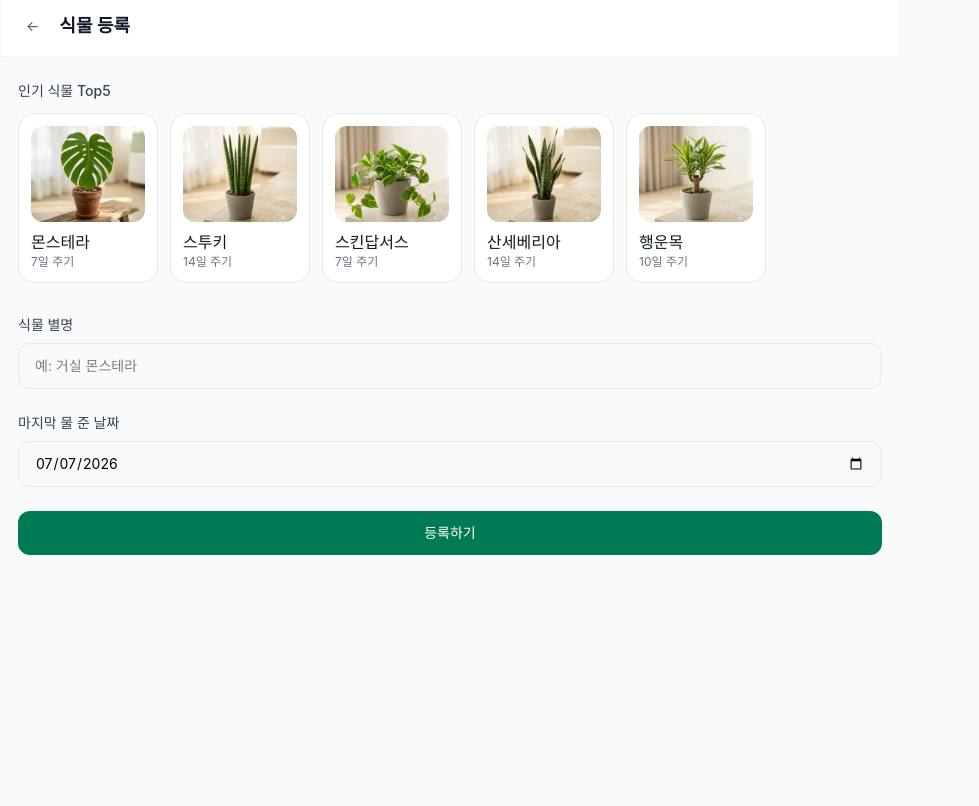
Scenario: AddPlantPage › saves plant to localStorage and navigates home
Click the button "몬스테라 7일 주기" at (88, 198), box [18, 113, 158, 283]
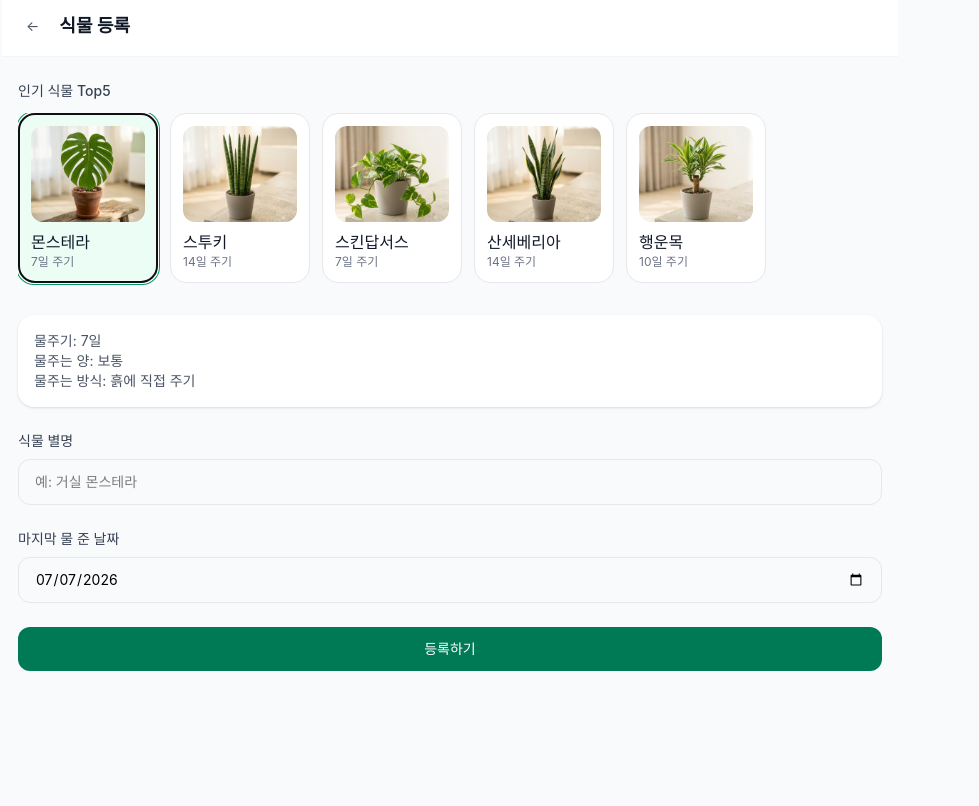
Type "거실 몬스테라" into the field labelled "식물 별명" at (450, 482), box [18, 459, 882, 505]
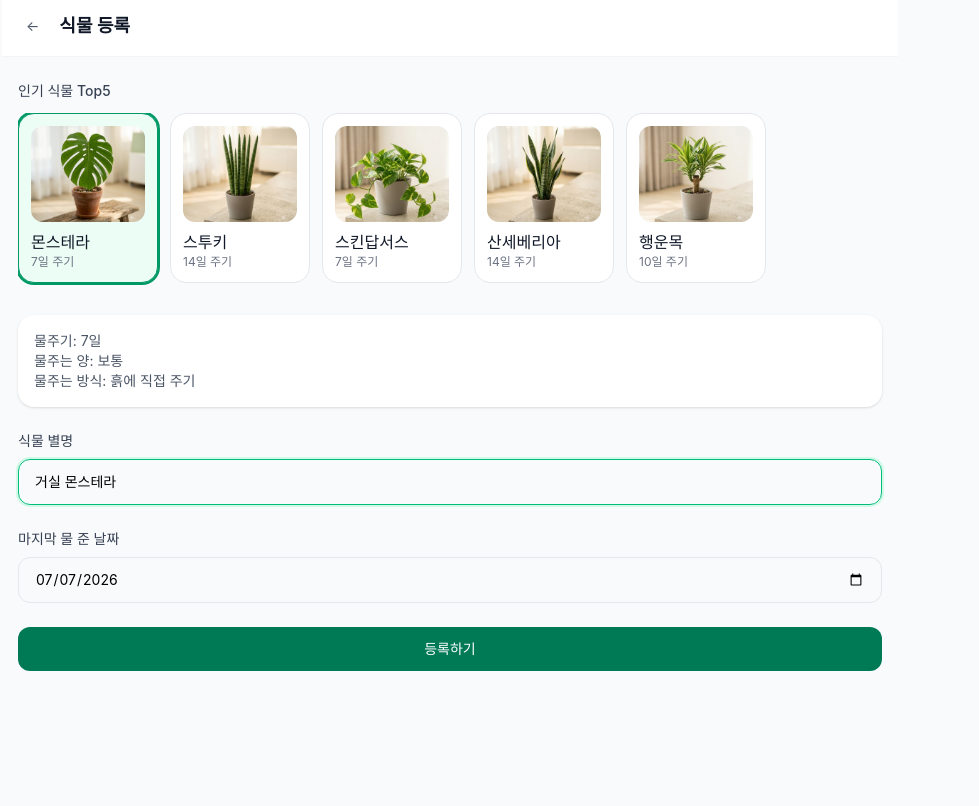
Click the button "등록하기" at (450, 649), box [18, 627, 882, 671]
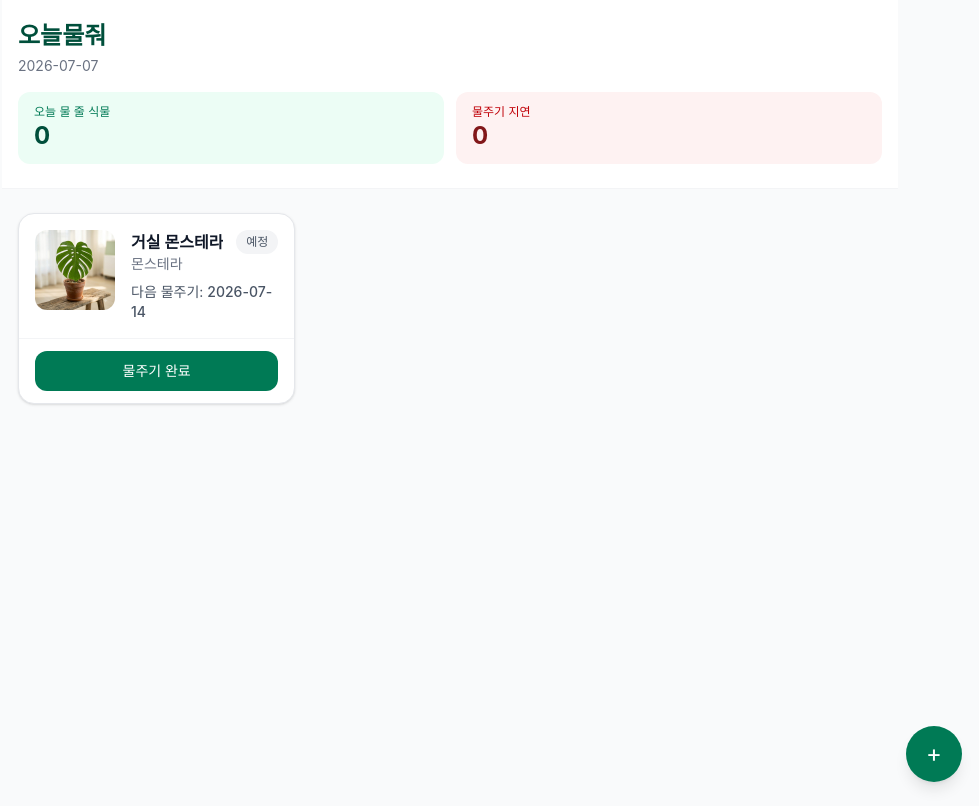
Check: the heading "거실 몬스테라" is shown, box [131, 230, 223, 254]
